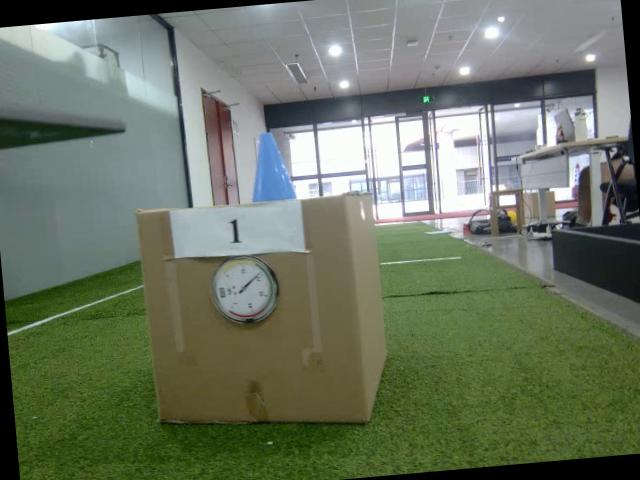1: (224, 214, 245, 244)
Dashboard: (204, 252, 282, 331)
blue_barrel: (244, 128, 297, 206)
ssi: (217, 283, 226, 300)
